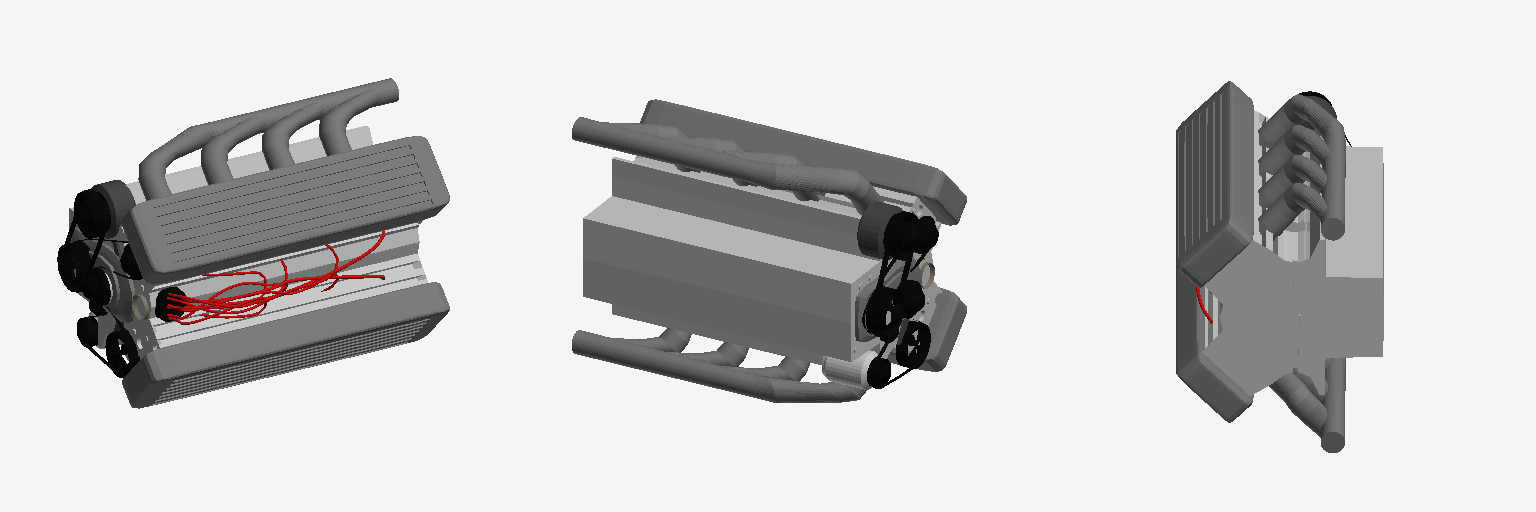
Rendered from engine2.obj.
3 renders of one model, left to right at view 1: azimuth 30°, elevation 25°; view 2: azimuth 150°, elevation 25°; view 3: azimuth 270°, elevation 25°, orthographic.
Parts seen in each view (by area): view 1: Cube.003_Cube.007, Cylinder.009_Mesh.004, Cube.002_Cube.006, Cylinder.037_Cylinder.036, Cylinder.016_Cylinder.021, Cube_Cube.005, Cylinder.002, Cylinder.001, Cylinder.012_Cylinder.025, Cylinder, Cylinder.003, Cylinder.010_Cylinder.015 (+2 smaller); view 2: Cylinder.009_Mesh.004, Cylinder.037_Cylinder.036, Cube.003_Cube.007, Cylinder.008_Cylinder.011, Cube.002_Cube.006, Cylinder.001, Cube_Cube.005, Cylinder.002, Cylinder.013_Cylinder.027, Cylinder.012_Cylinder.025, Cylinder, Curve_Mesh.001 (+3 smaller); view 3: Cylinder.009_Mesh.004, Cube.003_Cube.007, Cylinder.037_Cylinder.036, Cube.002_Cube.006, Cylinder.008_Cylinder.011.
Part boxes in pixels (x1,y1,x2,y2): Cube.003_Cube.007: (122,136,449,284); Cylinder.009_Mesh.004: (69,126,427,360); Cube.002_Cube.006: (122,282,449,408); Cylinder.037_Cylinder.036: (138,78,398,200); Cylinder.016_Cylinder.021: (167,230,384,324); Cube_Cube.005: (70,228,134,322); Cylinder.002: (57,241,90,291); Cylinder.001: (91,180,135,238); Cylinder.012_Cylinder.025: (74,191,110,238); Cylinder: (105,330,139,377); Cylinder.003: (82,267,110,306); Cylinder.010_Cylinder.015: (155,287,186,321); Cylinder.009_Mesh.004: (583,155,941,364); Cylinder.037_Cylinder.036: (572,117,883,214); Cube.003_Cube.007: (640,99,966,225); Cylinder.008_Cylinder.011: (572,328,866,402); Cube.002_Cube.006: (887,287,966,371); Cylinder.001: (857,201,902,259); Cube_Cube.005: (855,257,921,341); Cylinder.002: (866,286,904,336); Cylinder.013_Cylinder.027: (822,350,877,389); Cylinder.012_Cylinder.025: (883,213,919,260); Cylinder: (896,321,930,368); Curve_Mesh.001: (871,211,912,337); Cylinder.009_Mesh.004: (1202,110,1383,395); Cube.003_Cube.007: (1176,81,1253,287); Cylinder.037_Cylinder.036: (1258,94,1345,240); Cube.002_Cube.006: (1176,266,1253,422); Cylinder.008_Cylinder.011: (1269,358,1345,452).
Size of the model in its own units: 11.23 by 7.75 by 6.17.